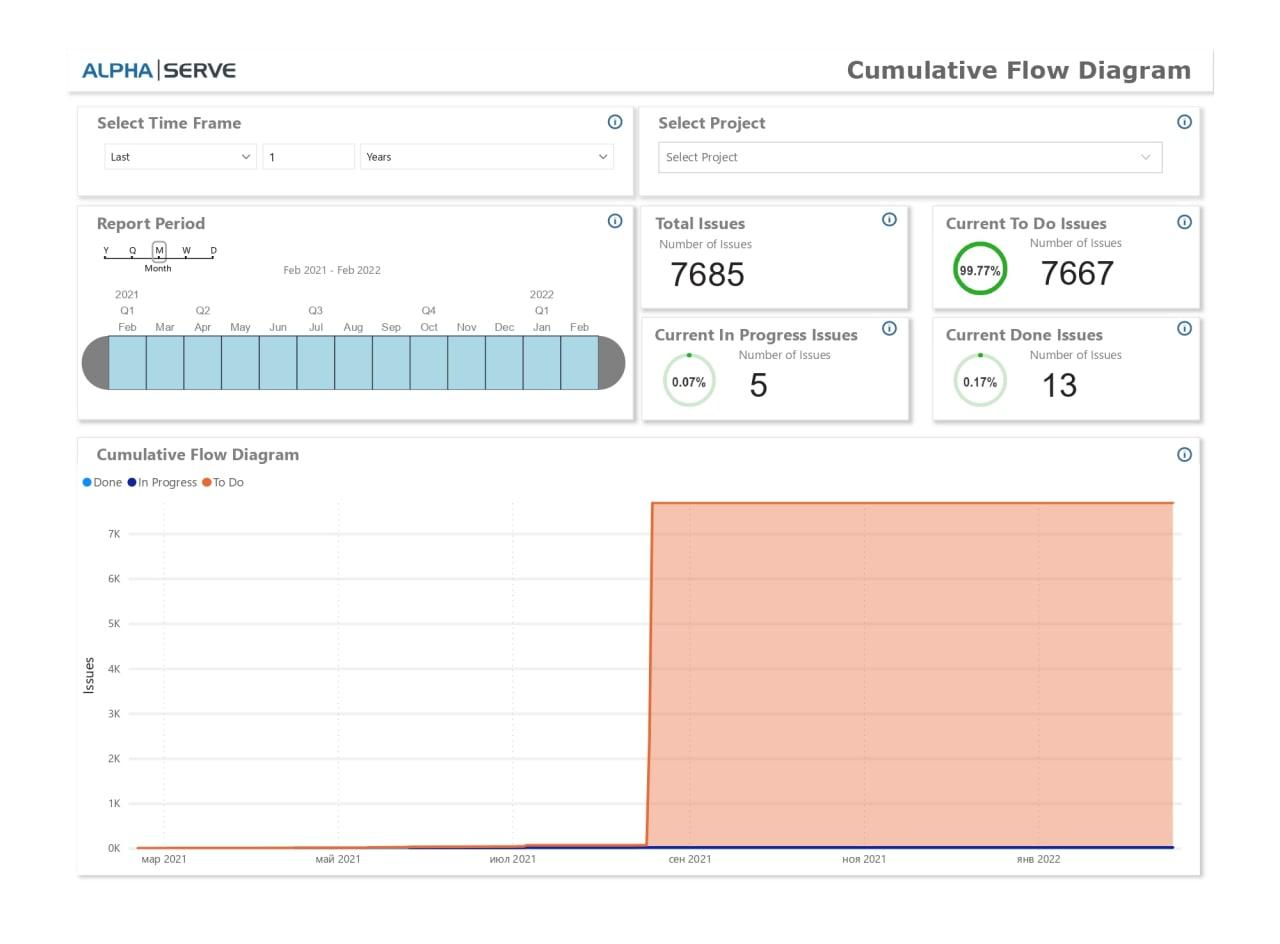

What the dashboard file says about the page in this screenshot:
{"tool":"powerbi","page":{"name":"Cumulative Flow Diagram","canvas":[1280,945],"ordinal":0},"visuals":[{"type":"shape","box":[1.1,1.4,1277.4,47],"z":0,"group":"g1"},{"type":"shape","box":[637.9,64.9,625.7,100.1],"z":0,"group":"g2"},{"type":"shape","title":"Select Time Frame","box":[12.8,65.1,619.5,100],"z":0,"group":"g3"},{"type":"textbox","box":[641,175,298,115],"z":0,"group":"g4"},{"type":"textbox","box":[966,175,297.6,115],"z":0,"group":"g7"},{"type":"textbox","box":[12.8,175.5,619.5,239.4],"z":0},{"type":"textbox","box":[641.1,300,297.6,115],"z":0,"group":"g6"},{"type":"textbox","box":[966,300,298,115],"z":0,"group":"g5"},{"type":"image","box":[12.8,2,181.2,45],"z":1000,"group":"g1"},{"type":"multiRowCard","title":"Number of Issues","fields":{"Values":["Issues.Issues to do card"]},"box":[1069.5,207.2,185.7,81.3],"z":1000,"group":"g7"},{"type":"multiRowCard","title":"Number of Issues","fields":{"Values":["Issues.Issues Total Card"]},"box":[656.8,209.2,241,78.1],"z":1000,"group":"g4"},{"type":"multiRowCard","title":"Number of Issues","fields":{"Values":["Issues.Issues in progress card"]},"box":[744.6,332.2,185.7,81.3],"z":1000,"group":"g6"},{"type":"multiRowCard","title":"Number of Issues","fields":{"Values":["Issues.Issues Done card"]},"box":[1069.7,332.2,185.9,81.3],"z":1000,"group":"g5"},{"type":"textbox","box":[12.8,433.6,1250.7,487],"z":1000},{"type":"group","id":"g1","title":"Dashboard Title","box":[1.1,1.4,1277.4,47],"z":2000},{"type":"textbox","box":[216.9,2,1060.8,45],"z":2000,"group":"g1"},{"type":"payPalKPIDonutChart55A431AB15A540ED924ACD72ED8D259F","title":"Current Done Issues","fields":{"myvalue":["Issues.Issues to do Percentage"]},"box":[967.7,203.3,102.6,83],"z":2000,"group":"g7"},{"type":"payPalKPIDonutChart55A431AB15A540ED924ACD72ED8D259F","title":"Current Done Issues","fields":{"myvalue":["Issues.Issues in Progress Percentage"]},"box":[642.8,328.3,102.6,83],"z":2000,"group":"g6"},{"type":"payPalKPIDonutChart55A431AB15A540ED924ACD72ED8D259F","title":"Current Done Issues","fields":{"myvalue":["Issues.Issues Done Percentage"]},"box":[967.7,328.3,102.7,83],"z":2000,"group":"g5"},{"type":"group","id":"g2","title":"Filter Pane","box":[637.9,64.9,625.3,99.7],"z":3000},{"type":"actionButton","box":[1235,180.4,25,25],"z":3000,"group":"g7"},{"type":"actionButton","box":[905,300,25,25],"z":3000,"group":"g6"},{"type":"actionButton","box":[1235,300,25,25],"z":3000,"group":"g5"},{"type":"textbox","box":[655.6,65.1,146.5,41.8],"z":4000},{"type":"Timeline1447991079100","fields":{"Time":["Calendar2.Date"]},"box":[12.8,206.9,618.4,208.1],"z":5000},{"type":"group","id":"g3","title":"Filter Pane","box":[12.8,65.1,619.5,100],"z":6000},{"type":"textbox","box":[30.2,65.1,372,41.8],"z":7000},{"type":"slicer","title":"Date","fields":{"Values":["Calendar2.Date"]},"box":[30.1,96.6,593.6,49.1],"z":8000},{"type":"SmartFilterBySQLBI1458262140625","fields":{"Values":["Projects.Choose Project"]},"box":[655.6,96.5,574.2,203.4],"z":9000},{"type":"group","id":"g4","title":"Total Issues Card","box":[641,175,298,115],"z":10000},{"type":"group","id":"g5","title":"Done Issues Card","box":[966,300,298,115],"z":11000},{"type":"group","id":"g6","title":"Done Issues Card","box":[641.1,300,297.6,115],"z":12000},{"type":"group","id":"g7","title":"Done Issues Card","box":[966,175,297.6,115],"z":13000},{"type":"stackedAreaChart","title":"Cumulative Flow Diagram","fields":{"Y":["Issues.CLM_done","Issues.CLM_in_progress","Issues.CLM_to_do"],"Category":["Calendar.Date.Variation.Date Hierarchy.Year","Calendar.Date.Variation.Date Hierarchy.Quarter","Calendar.Month Name Short","Calendar.Day"]},"box":[12.8,463.8,1250.7,458],"z":14000},{"type":"actionButton","box":[1235,70,25,25],"z":15000},{"type":"actionButton","box":[905,179,25.6,24.4],"z":16000},{"type":"actionButton","box":[600,70,25,25],"z":17000},{"type":"actionButton","box":[600,180,25,25],"z":18000},{"type":"actionButton","box":[1235,440,25,25],"z":19000}]}

Visuals, with their boxes in screenshot pixels (x1, y1, x2, y2), scaled from the page's 1280x945 canvas onto the 1280x944 screenshot:
shape: (x1=1, y1=1, x2=1278, y2=48)
shape: (x1=638, y1=65, x2=1264, y2=165)
"Select Time Frame" shape: (x1=13, y1=65, x2=632, y2=165)
textbox: (x1=641, y1=175, x2=939, y2=290)
textbox: (x1=966, y1=175, x2=1264, y2=290)
textbox: (x1=13, y1=175, x2=632, y2=414)
textbox: (x1=641, y1=300, x2=939, y2=415)
textbox: (x1=966, y1=300, x2=1264, y2=415)
image: (x1=13, y1=2, x2=194, y2=47)
"Number of Issues" multiRowCard: (x1=1070, y1=207, x2=1255, y2=288)
"Number of Issues" multiRowCard: (x1=657, y1=209, x2=898, y2=287)
"Number of Issues" multiRowCard: (x1=745, y1=332, x2=930, y2=413)
"Number of Issues" multiRowCard: (x1=1070, y1=332, x2=1256, y2=413)
textbox: (x1=13, y1=433, x2=1264, y2=920)
"Dashboard Title" group: (x1=1, y1=1, x2=1278, y2=48)
textbox: (x1=217, y1=2, x2=1278, y2=47)
"Current Done Issues" payPalKPIDonutChart55A431AB15A540ED924ACD72ED8D259F: (x1=968, y1=203, x2=1070, y2=286)
"Current Done Issues" payPalKPIDonutChart55A431AB15A540ED924ACD72ED8D259F: (x1=643, y1=328, x2=745, y2=411)
"Current Done Issues" payPalKPIDonutChart55A431AB15A540ED924ACD72ED8D259F: (x1=968, y1=328, x2=1070, y2=411)
"Filter Pane" group: (x1=638, y1=65, x2=1263, y2=164)
actionButton: (x1=1235, y1=180, x2=1260, y2=205)
actionButton: (x1=905, y1=300, x2=930, y2=325)
actionButton: (x1=1235, y1=300, x2=1260, y2=325)
textbox: (x1=656, y1=65, x2=802, y2=107)
Timeline1447991079100 - Calendar2.Date: (x1=13, y1=207, x2=631, y2=415)
"Filter Pane" group: (x1=13, y1=65, x2=632, y2=165)
textbox: (x1=30, y1=65, x2=402, y2=107)
"Date" slicer: (x1=30, y1=96, x2=624, y2=146)
SmartFilterBySQLBI1458262140625 - Projects.Choose Project: (x1=656, y1=96, x2=1230, y2=300)
"Total Issues Card" group: (x1=641, y1=175, x2=939, y2=290)
"Done Issues Card" group: (x1=966, y1=300, x2=1264, y2=415)
"Done Issues Card" group: (x1=641, y1=300, x2=939, y2=415)
"Done Issues Card" group: (x1=966, y1=175, x2=1264, y2=290)
"Cumulative Flow Diagram" stackedAreaChart: (x1=13, y1=463, x2=1264, y2=921)
actionButton: (x1=1235, y1=70, x2=1260, y2=95)
actionButton: (x1=905, y1=179, x2=931, y2=203)
actionButton: (x1=600, y1=70, x2=625, y2=95)
actionButton: (x1=600, y1=180, x2=625, y2=205)
actionButton: (x1=1235, y1=440, x2=1260, y2=465)
